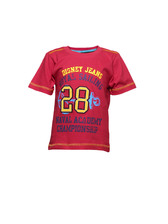clothoes: (27, 44, 140, 156)
